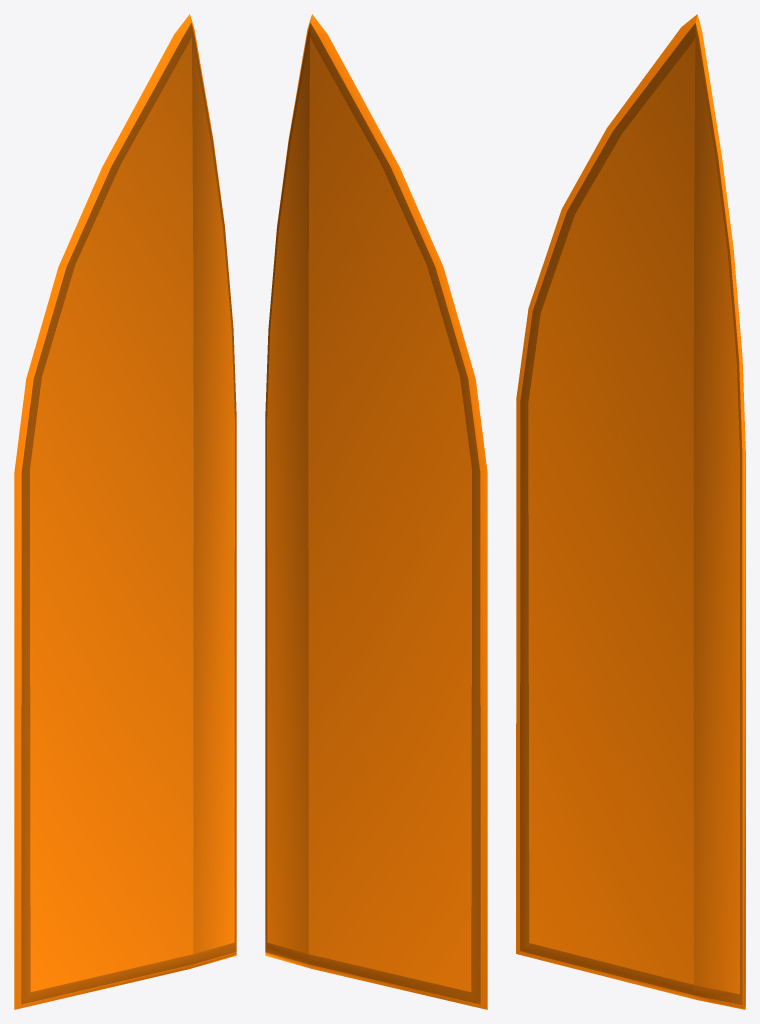
Rendered from bronze_blade (7).glb.
3 renders of one model, left to right at view 1: azimuth 30°, elevation 25°; view 2: azimuth 150°, elevation 25°; view 3: azimuth 330°, elevation 25°, orthographic. The views are drawn at different scales.
Parts seen in each view (by area): view 1: bronze_blade_steel.036; view 2: bronze_blade_steel.036; view 3: bronze_blade_steel.036.
Boxes of the visible parts, x1,y1,x2,y2 form: bronze_blade_steel.036: (14, 14, 236, 1009); bronze_blade_steel.036: (265, 14, 487, 1009); bronze_blade_steel.036: (516, 14, 745, 1009).
Size of the model in its own units: 2.79 by 11.43 by 0.1594.
1 material, 1 textured.
